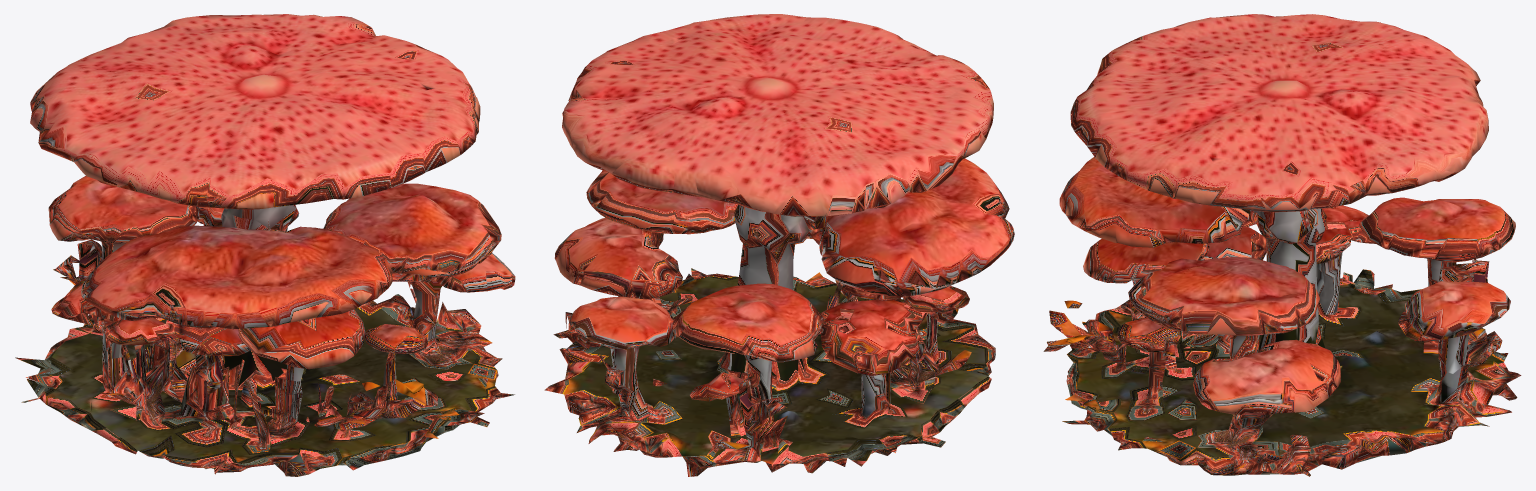
3 views of the same model, side by side, from view 1: azimuth 30°, elevation 25°; view 2: azimuth 150°, elevation 25°; view 3: azimuth 270°, elevation 25° (orthographic). The views are drawn at different scales.
Bounding box in the file's own units: 1.95 × 1.4 × 1.92.
Materials: 1 (1 with a texture image).
